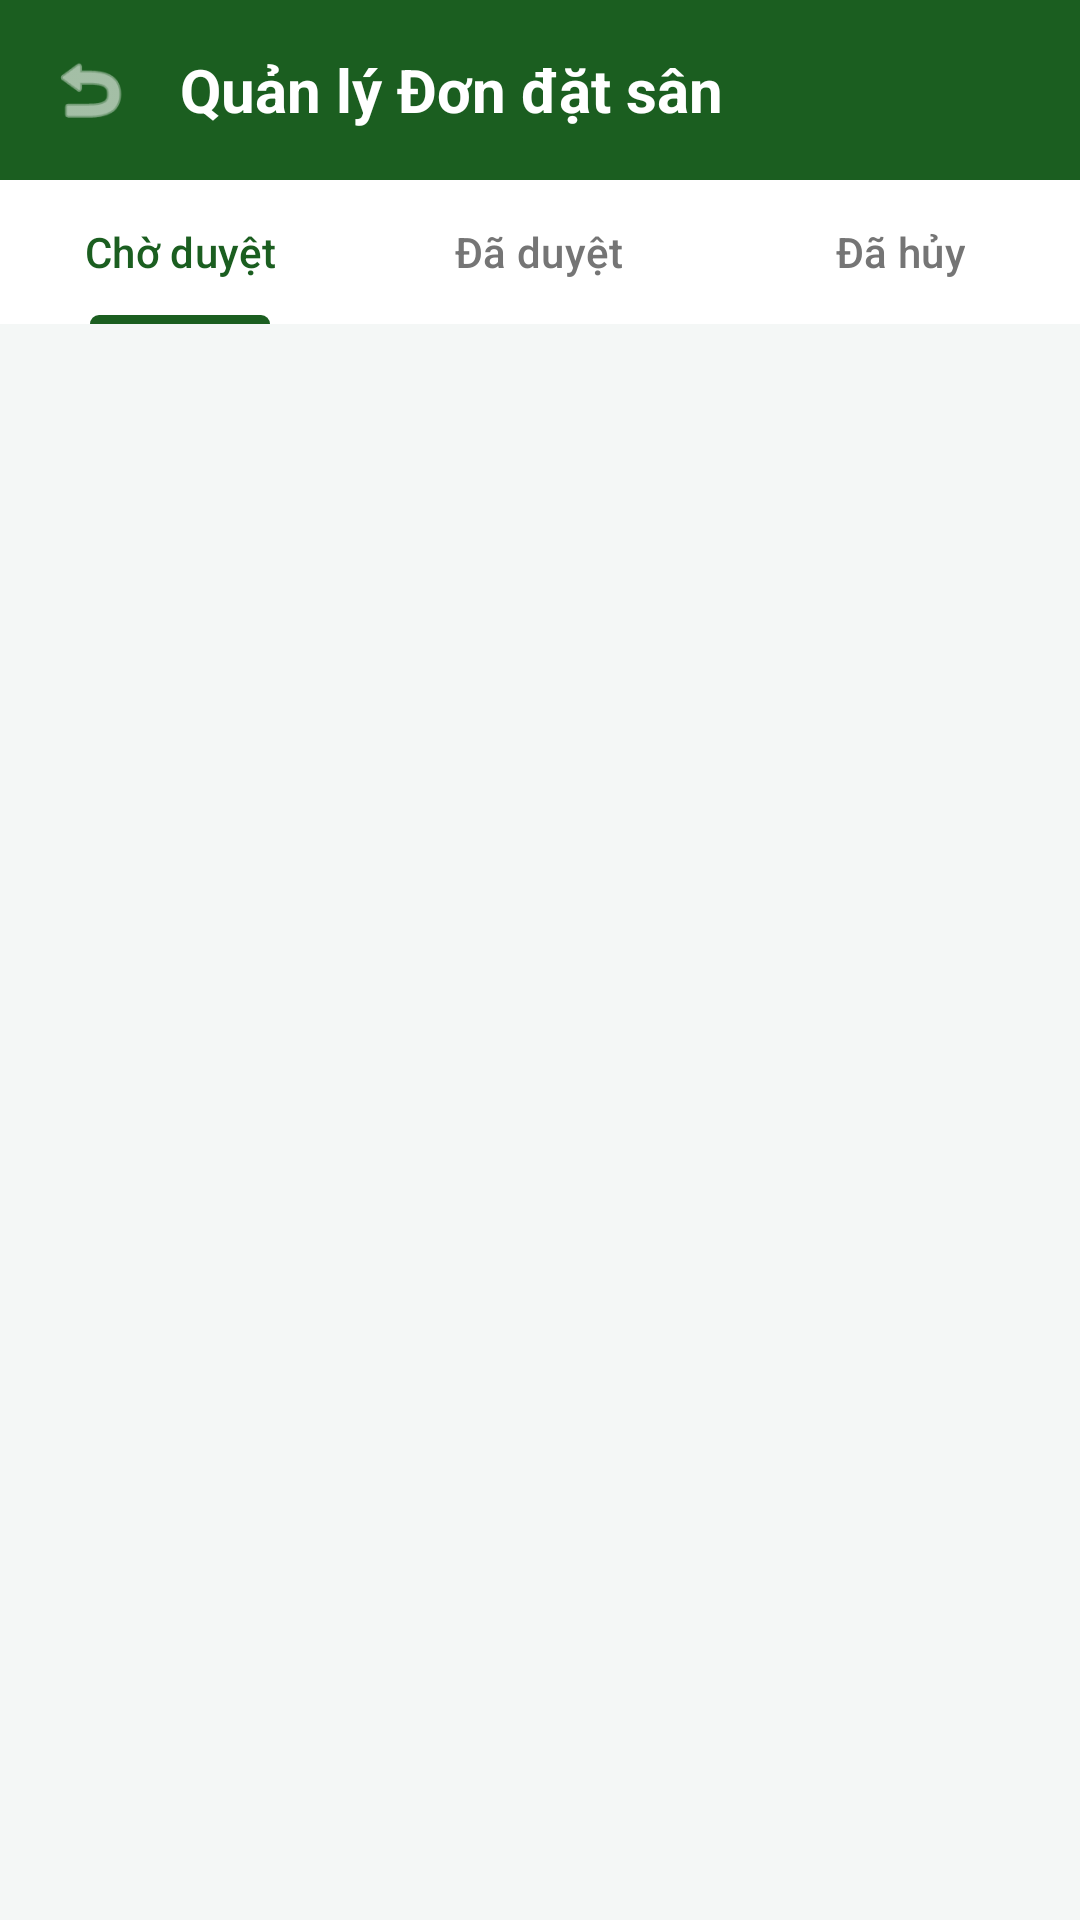

Icons on this 1080 x 1920 Android screen, each with its box as (x1, y1, x2, y2):
revert: (61, 63, 121, 118)
